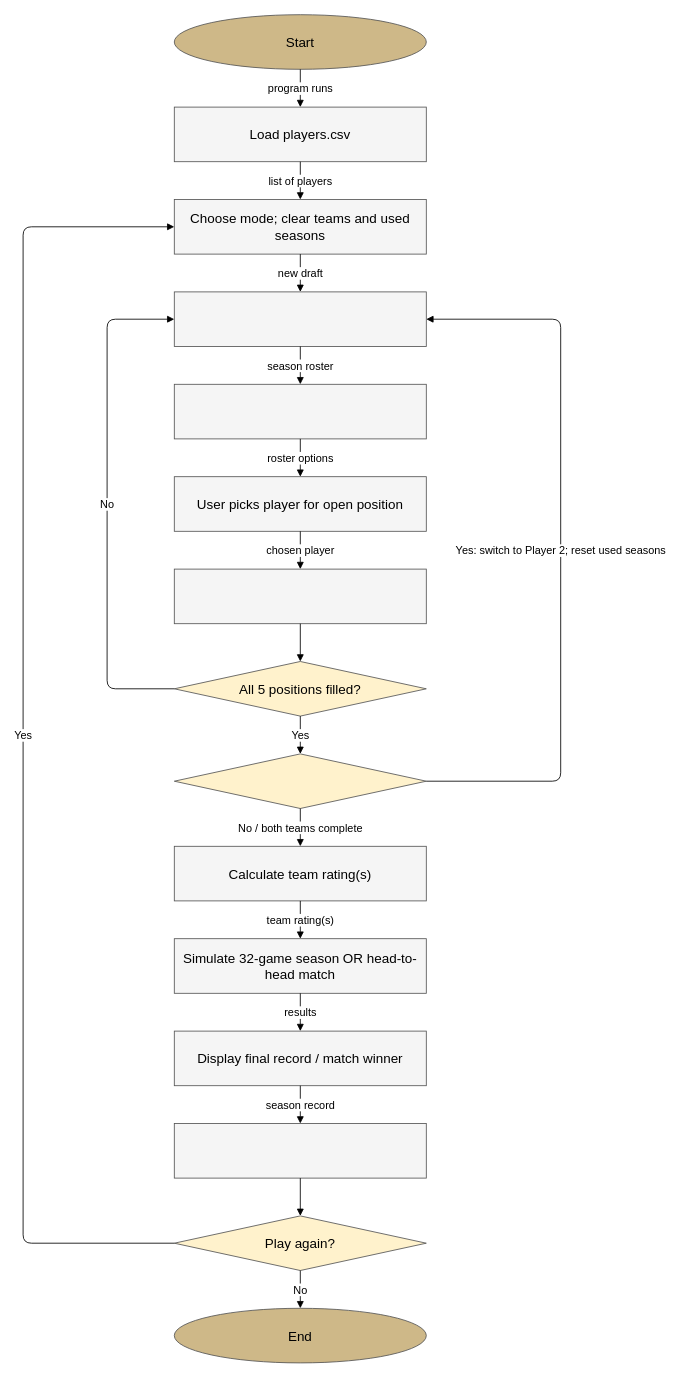
The diagram is 680 pixels wide and 1378 high, and some of its shapes have lost their labels. The shapes that lost their labels are listed below. From the top down, each one's centre as x and y in pixels, then its label:
the point at 299,318: Spin random unused Purdue season
the point at 299,411: Display season roster
the point at 299,596: Add player to team; mark season used
the point at 299,780: Head-to-head: draft second team?
the point at 299,1150: Save best season record to records.txt
